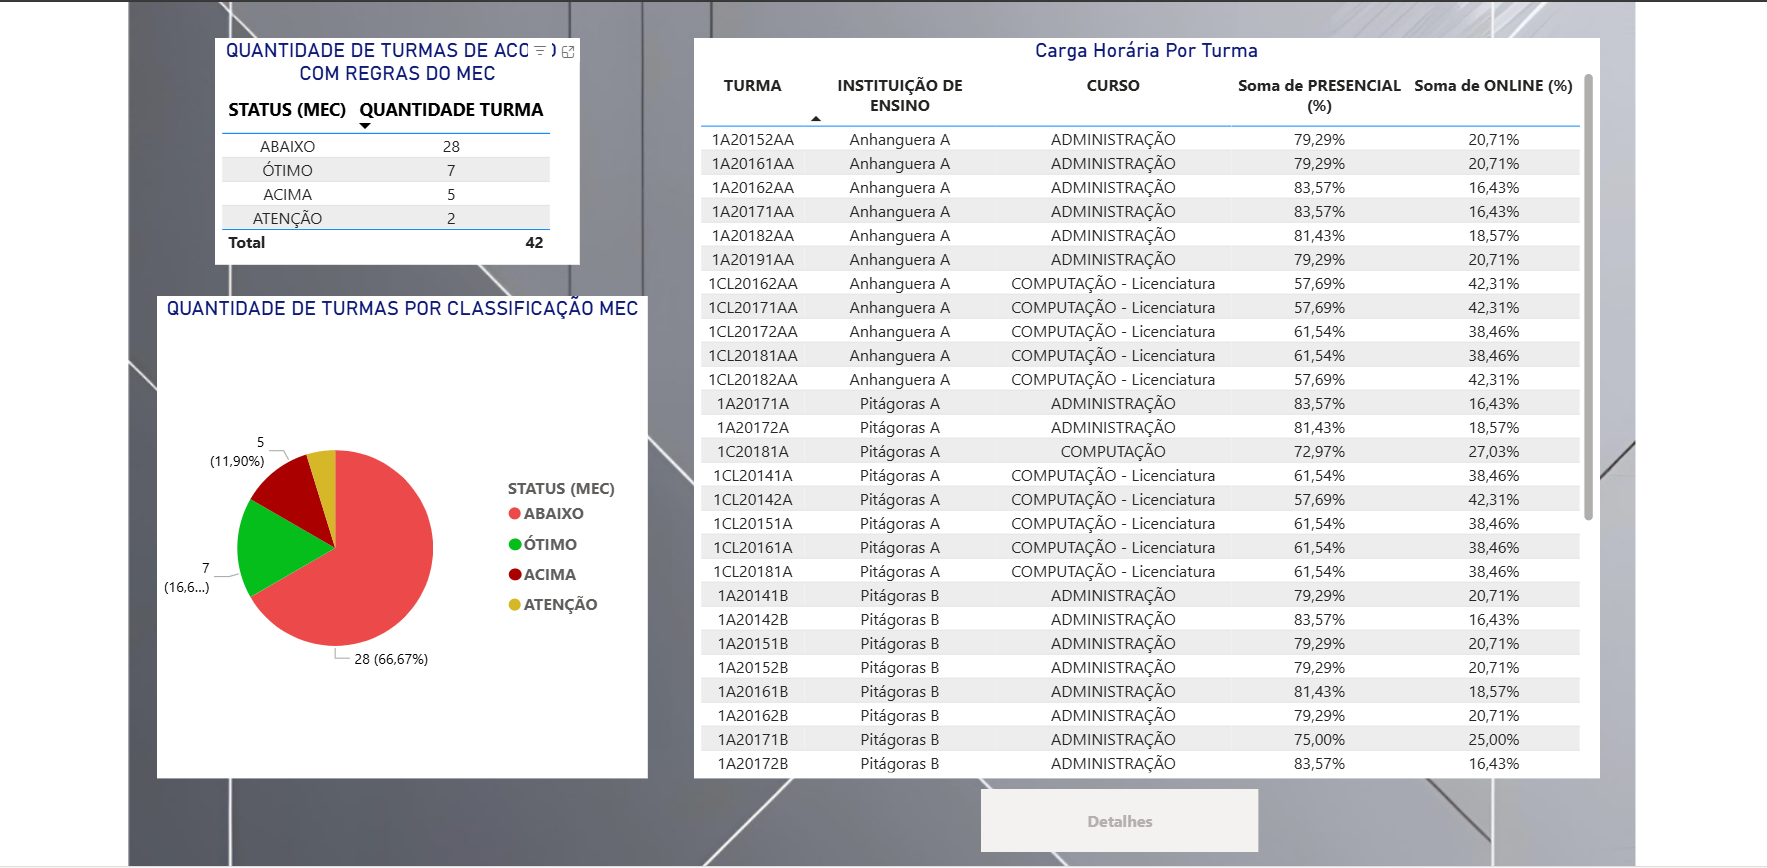

The page's visual inventory and layout, read from the dashboard file:
{"tool":"powerbi","page":{"name":"Página 1","canvas":[1280,720],"ordinal":0},"visuals":[{"type":"pieChart","title":"QUANTIDADE DE TURMAS POR CLASSIFICAÇÃO MEC","fields":{"Category":["TB_TURMA_CARGA_HORARIA.STATUS (MEC)"],"Y":["CountNonNull(TB_TURMA_CARGA_HORARIA.TURMA)"]},"box":[35,245.1,409.5,401.7],"z":0},{"type":"tableEx","title":"QUANTIDADE DE TURMAS DE ACORDO COM REGRAS DO MEC","fields":{"Values":["TB_TURMA_CARGA_HORARIA.STATUS (MEC)","TB_TURMA_CARGA_HORARIA.TURMA"]},"box":[83.6,30.2,304.4,188.7],"z":1000},{"type":"tableEx","title":"Carga Horária Por Turma","fields":{"Values":["TB_TURMA_CARGA_HORARIA.TURMA","TB_GRADE.INSTITUIÇÃO DE ENSINO","TB_GRADE.CURSO","Sum(TB_TURMA_CARGA_HORARIA.PRESENCIAL (%))","Sum(TB_TURMA_CARGA_HORARIA.ONLINE (%))"]},"box":[482.4,30.2,754.8,616.7],"z":2000},{"type":"actionButton","box":[721.7,655.6,231.5,52.5],"z":3000}]}

Visuals, with their boxes in screenshot pixels (x1, y1, x2, y2):
"QUANTIDADE DE TURMAS POR CLASSIFICAÇÃO MEC" pieChart: (157,297,645,775)
"QUANTIDADE DE TURMAS DE ACORDO COM REGRAS DO MEC" tableEx: (215,41,577,265)
"Carga Horária Por Turma" tableEx: (690,41,1589,775)
actionButton: (975,786,1251,848)
